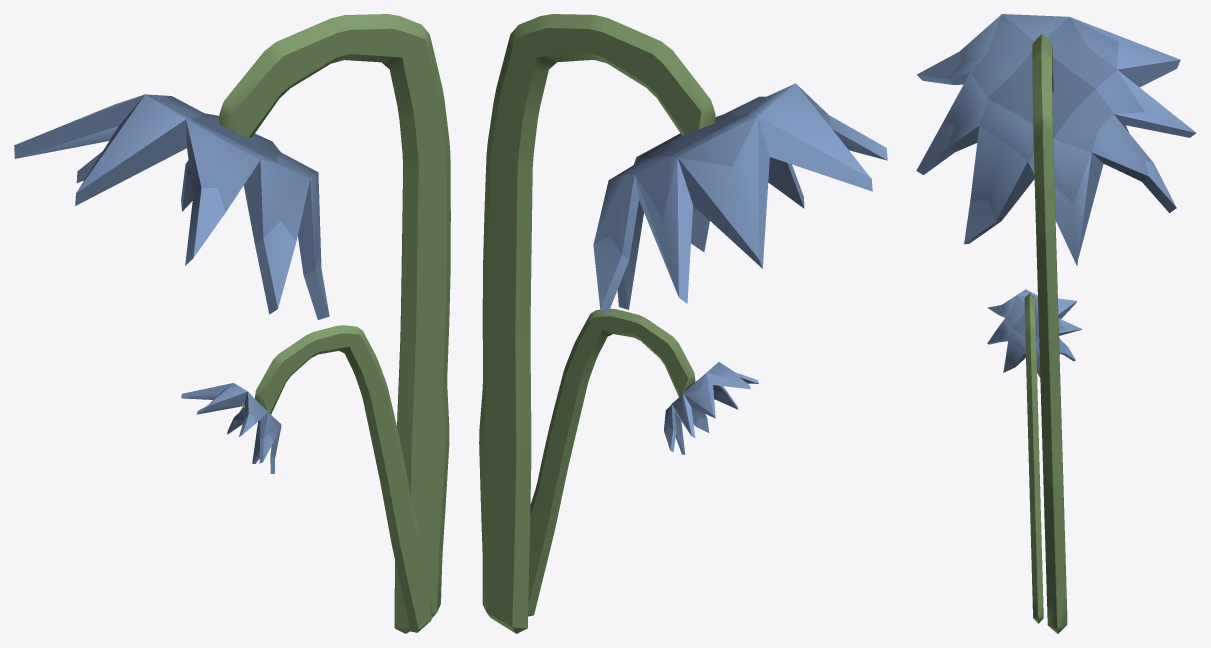
The model's file is blueflowerall.fbx.
3 renders of one model, left to right at view 1: azimuth 30°, elevation 25°; view 2: azimuth 150°, elevation 25°; view 3: azimuth 270°, elevation 25°, orthographic. The views are drawn at different scales.
Visible parts, largest first — view 1: polySurface1, polySurface2, pasted__polySurface1, pasted__polySurface2; view 2: polySurface1, polySurface2, pasted__polySurface1, pasted__polySurface2; view 3: polySurface2, polySurface1, pasted__polySurface1, pasted__polySurface2.
Part boxes in pixels (left/top/right/bottom): polySurface1: left=219, top=14, right=450, bottom=633; polySurface2: left=14, top=94, right=329, bottom=319; pasted__polySurface1: left=255, top=325, right=433, bottom=632; pasted__polySurface2: left=181, top=383, right=281, bottom=473; polySurface1: left=479, top=14, right=715, bottom=633; polySurface2: left=593, top=83, right=887, bottom=314; pasted__polySurface1: left=528, top=308, right=695, bottom=616; pasted__polySurface2: left=664, top=362, right=758, bottom=454; polySurface2: left=916, top=14, right=1195, bottom=266; polySurface1: left=1032, top=34, right=1067, bottom=633; pasted__polySurface1: left=1024, top=293, right=1043, bottom=623; pasted__polySurface2: left=987, top=289, right=1082, bottom=377.
Size of the model in its own units: 1.5 by 2.38 by 1.1.
